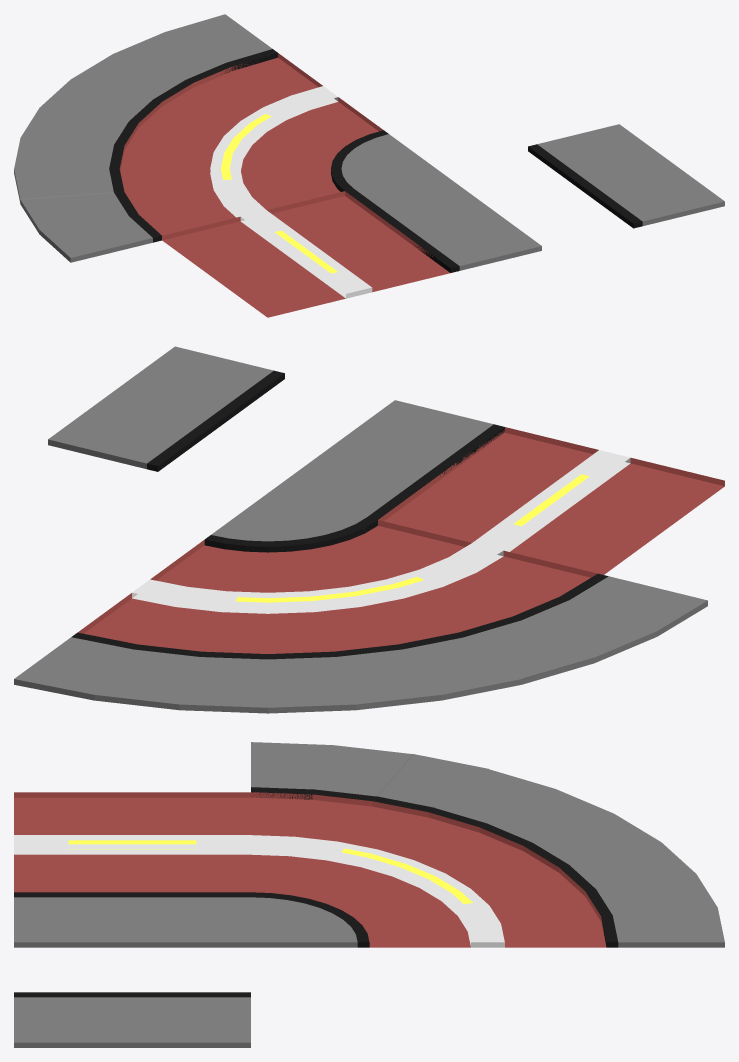
Rendered from Road-assets.fbx.
3 views of the same model, one above another, from view 1: azimuth 30°, elevation 25°; view 2: azimuth 150°, elevation 25°; view 3: azimuth 270°, elevation 25° (orthographic). The views are drawn at different scales.
Visible parts, largest first — view 1: Curved road, Pavement Curved 2, Base road.001, Pavement Curved 1, Pavement Base; view 2: Curved road, Pavement Curved 2, Base road.001, Pavement Curved 1, Pavement Base; view 3: Curved road, Pavement Curved 2, Base road.001, Pavement Curved 1, Pavement Base.
Part boxes in pixels (bbox=[...]): Curved road: bbox=[119, 53, 383, 235]; Pavement Curved 2: bbox=[14, 14, 277, 262]; Base road.001: bbox=[162, 191, 450, 317]; Pavement Curved 1: bbox=[331, 130, 541, 272]; Pavement Base: bbox=[528, 124, 724, 228]; Curved road: bbox=[78, 520, 597, 653]; Pavement Curved 2: bbox=[14, 573, 707, 713]; Base road.001: bbox=[378, 427, 724, 574]; Pavement Curved 1: bbox=[204, 400, 504, 552]; Pavement Base: bbox=[48, 346, 284, 471]; Curved road: bbox=[251, 792, 606, 947]; Pavement Curved 2: bbox=[251, 742, 724, 947]; Base road.001: bbox=[14, 792, 250, 892]; Pavement Curved 1: bbox=[14, 892, 369, 947]; Pavement Base: bbox=[14, 992, 250, 1047].
Bounding box in the file's own units: 600 × 5.23 × 600.
